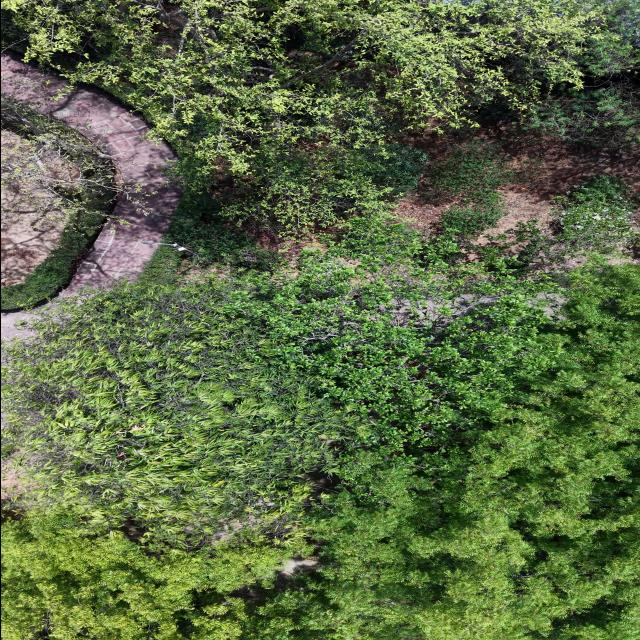DRY_AREA: (1, 53, 180, 297), (1, 53, 179, 296), (1, 54, 179, 296), (1, 54, 180, 292), (396, 113, 639, 245), (398, 118, 639, 244), (1, 53, 172, 190), (473, 121, 639, 244), (474, 124, 639, 244), (398, 118, 639, 198), (475, 121, 639, 200), (1, 130, 79, 286), (473, 182, 552, 244), (1, 216, 63, 286), (393, 193, 447, 235), (1, 451, 29, 499), (277, 556, 317, 576)
PATHWAYS: (1, 53, 181, 296)
VEGETATION_TREE: (1, 0, 639, 639), (2, 245, 639, 639), (2, 264, 639, 639), (4, 223, 564, 539), (8, 0, 600, 232), (3, 260, 363, 539), (13, 0, 599, 170), (1, 513, 290, 639), (1, 96, 117, 310), (220, 143, 426, 235), (525, 0, 639, 147), (473, 175, 639, 274), (1, 206, 102, 309), (419, 140, 517, 237)
